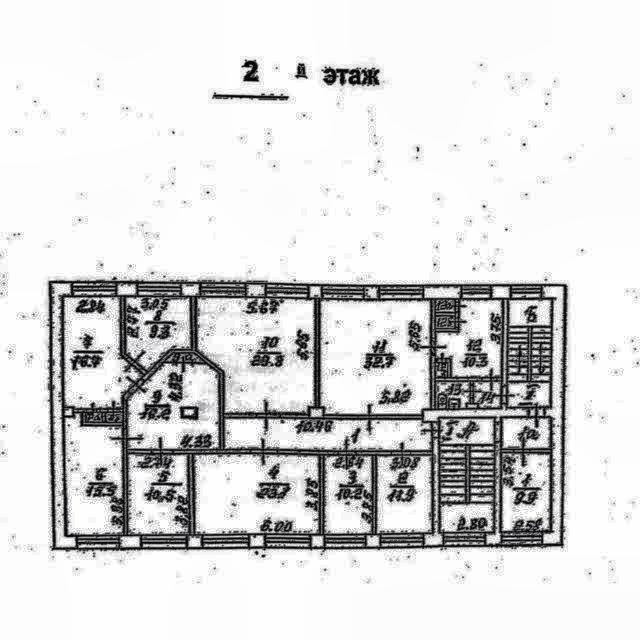room: (62, 295, 144, 537), (197, 298, 315, 413), (321, 301, 430, 414), (193, 455, 320, 534), (128, 351, 221, 450), (226, 418, 431, 450), (440, 419, 493, 530), (434, 299, 501, 376), (124, 296, 190, 369), (128, 455, 188, 534), (509, 300, 549, 406), (378, 456, 433, 532), (501, 453, 549, 531), (325, 457, 373, 534), (503, 418, 550, 449), (435, 381, 470, 408), (473, 381, 500, 407)
